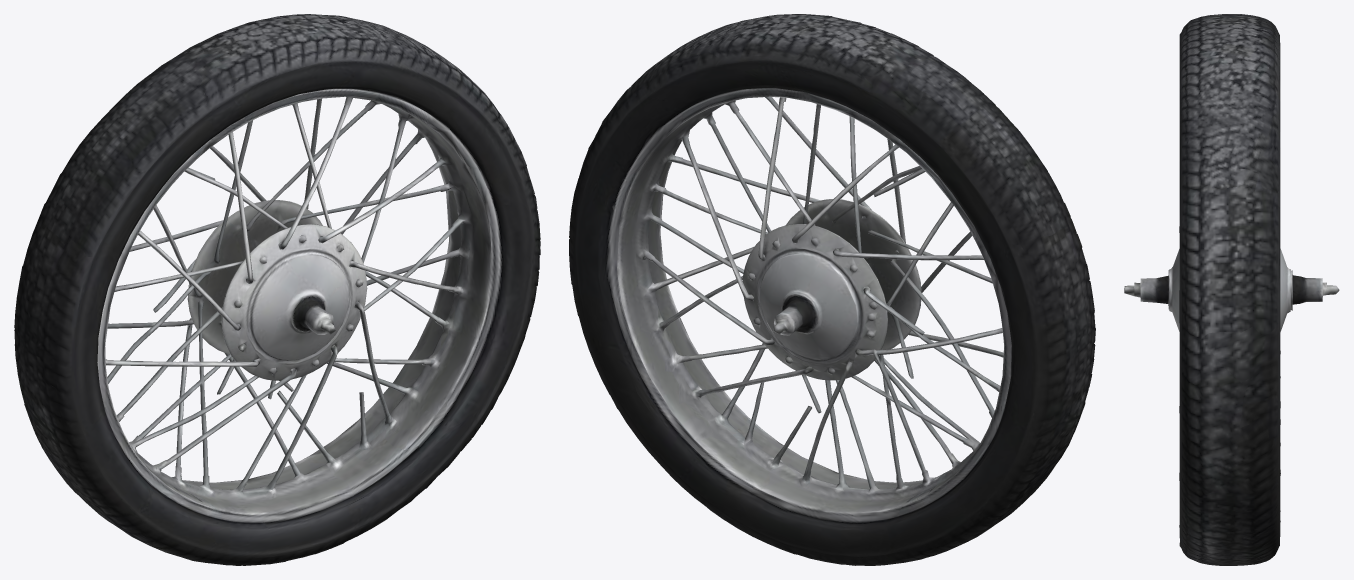
Rendered from honda_wheel.glb.
The picture shows the model from 3 angles, left to right: view 1: azimuth 30°, elevation 25°; view 2: azimuth 150°, elevation 25°; view 3: azimuth 270°, elevation 25°; orthographic projection. The views are drawn at different scales.
Parts seen in each view (by area): view 1: tripo_node_d2e180d5-cb2c-4c62-b8fb-94886a931be3; view 2: tripo_node_d2e180d5-cb2c-4c62-b8fb-94886a931be3; view 3: tripo_node_d2e180d5-cb2c-4c62-b8fb-94886a931be3.
Boxes of the visible parts, box(x1,y1,x2,y2) form: tripo_node_d2e180d5-cb2c-4c62-b8fb-94886a931be3: box(14, 14, 540, 565); tripo_node_d2e180d5-cb2c-4c62-b8fb-94886a931be3: box(569, 14, 1095, 565); tripo_node_d2e180d5-cb2c-4c62-b8fb-94886a931be3: box(1124, 14, 1339, 565).
Size of the model in its own units: 0.9784 by 0.9795 by 0.3811.
Materials: 1 (1 with a texture image).
